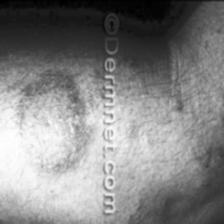Non-Cancerous Skin Condition: (2, 62, 92, 196), (182, 78, 224, 170)
